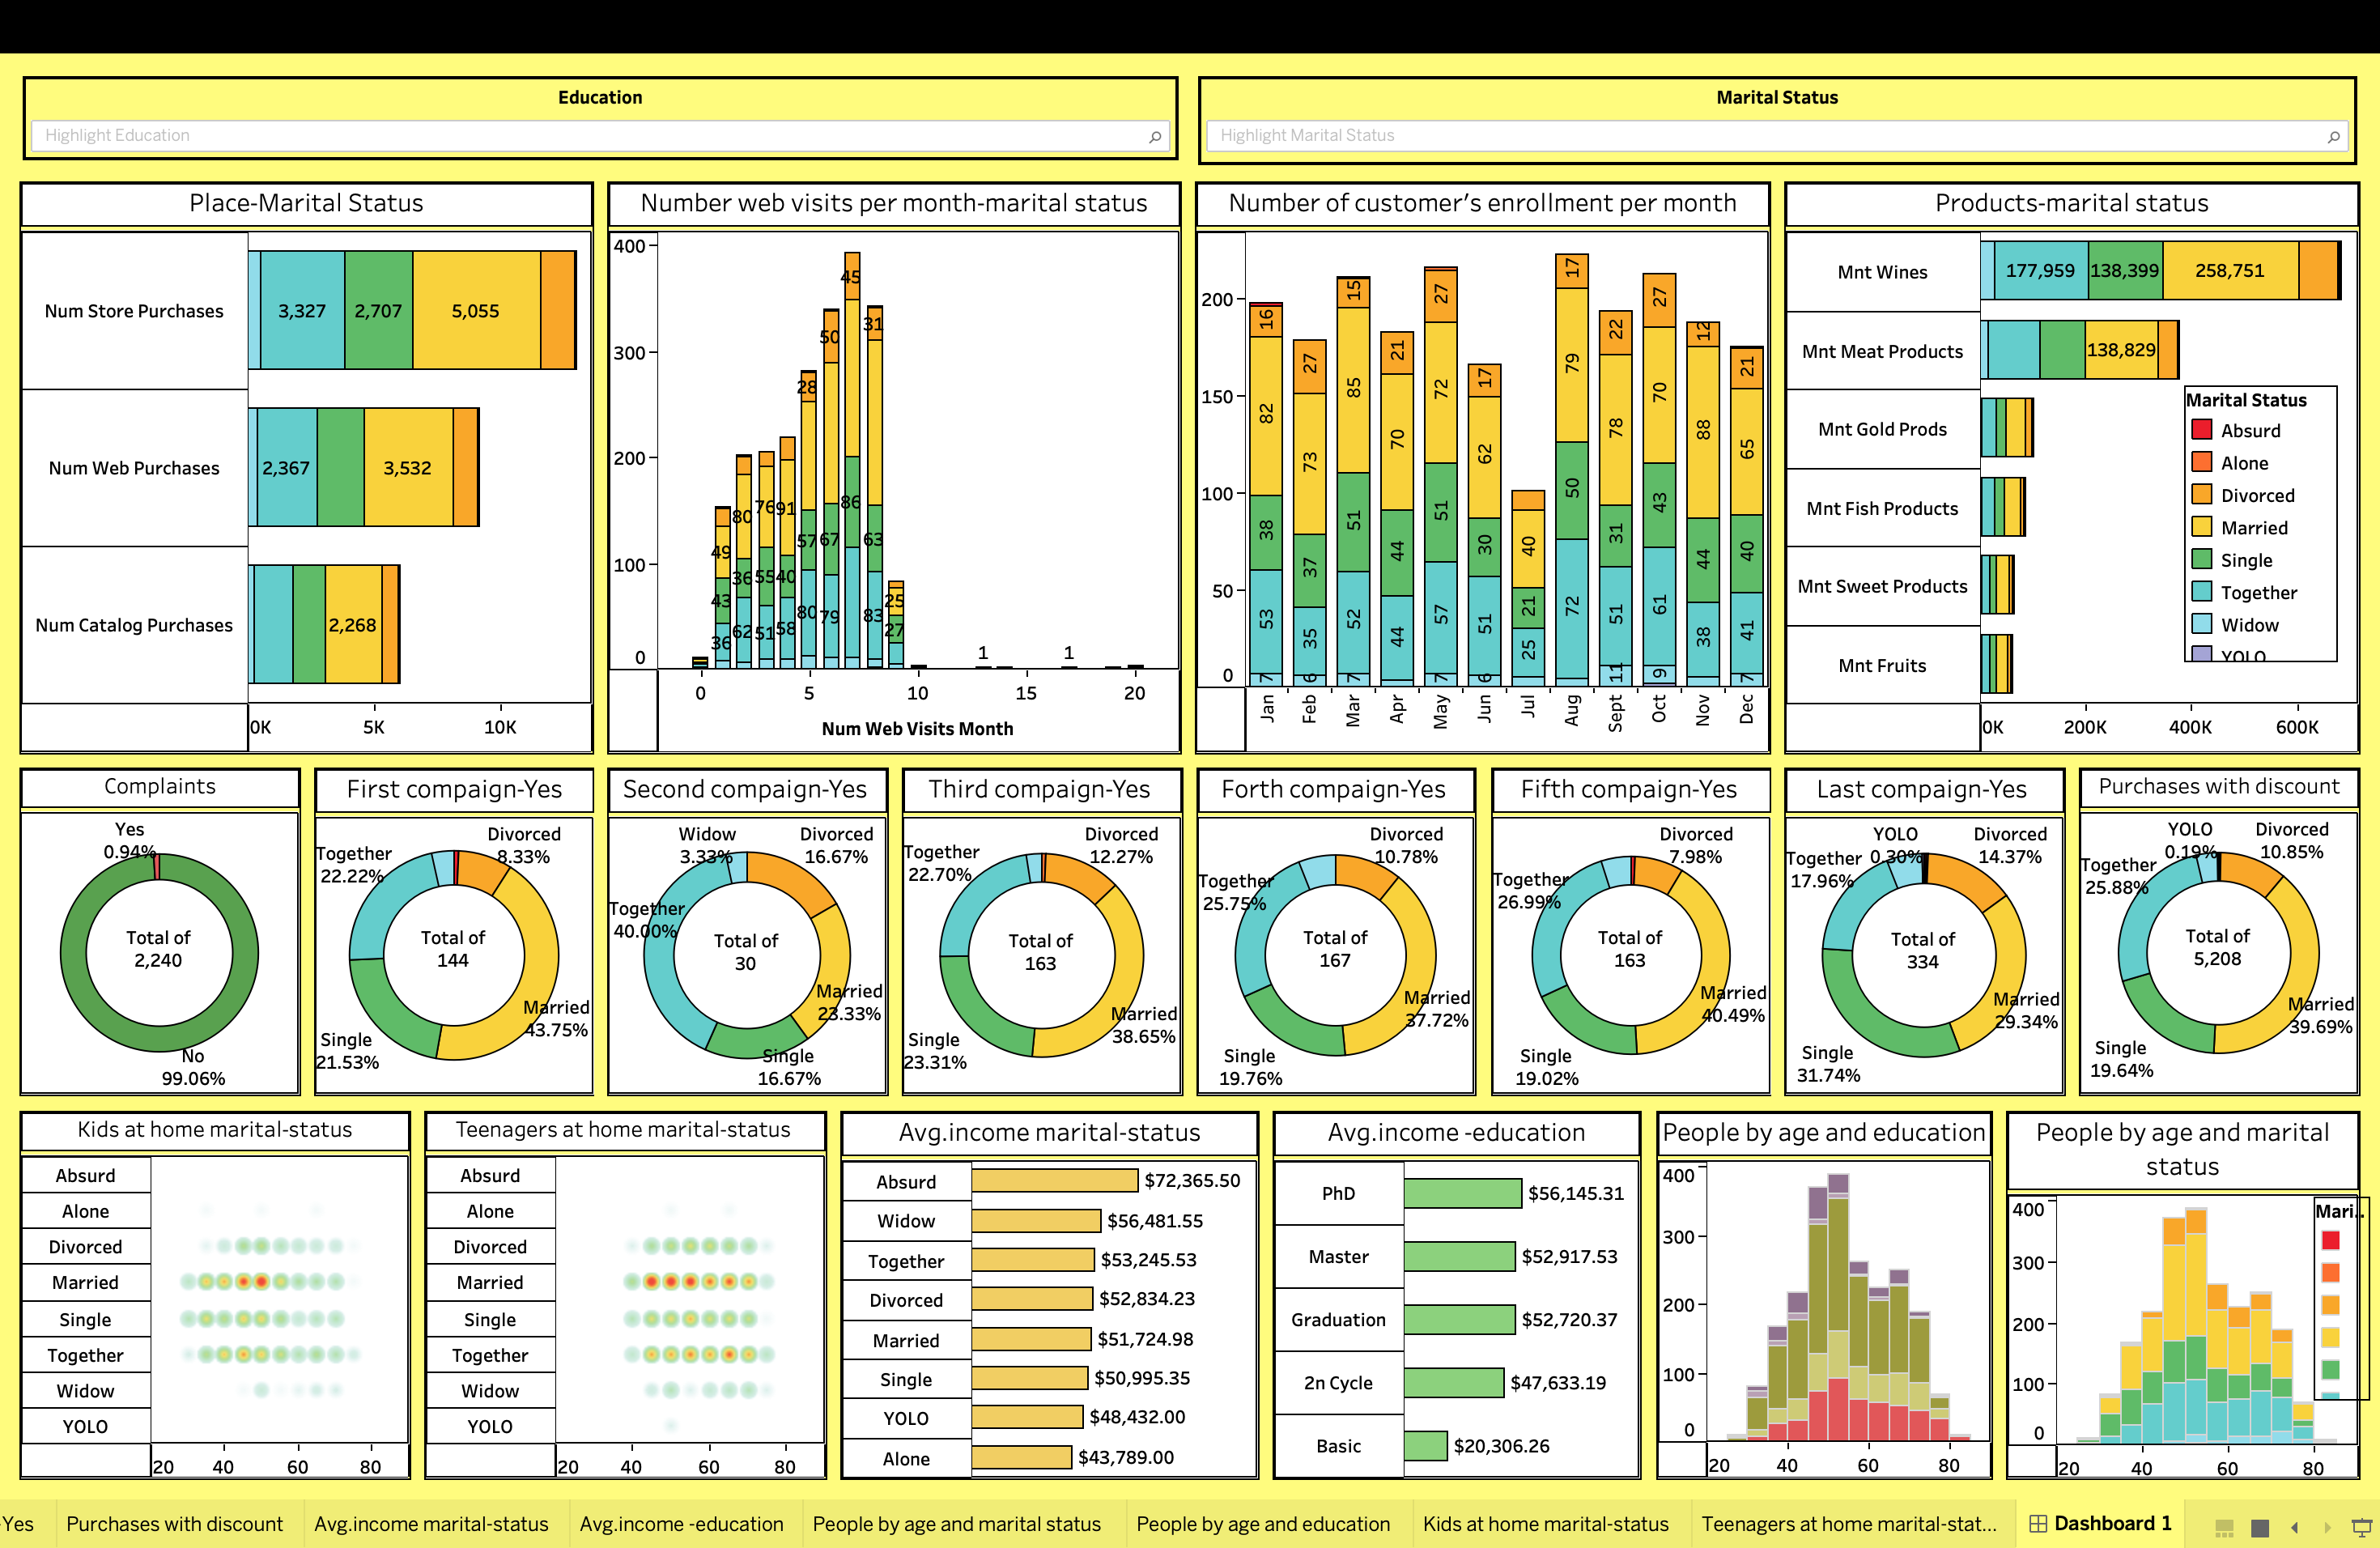

What the dashboard file says about the page in this screenshot:
{"tool":"tableau","page":{"name":"Dashboard 1","canvas":[1000,1000],"units":"permille","ordinal":0},"visuals":[{"type":"highlighter","title":"People by age and education","param":"[federated.0j65syx1y00lok1d6j68u1arrtdm].[none:Education:nk]","box":[5.5,10,494,74.6]},{"type":"highlighter","title":"Place-Marital Status","param":"[federated.0j65syx1y00lok1d6j68u1arrtdm].[none:Marital_Status:nk]","box":[499.6,10,494.9,74.6]},{"type":"worksheet","title":"Place-Marital Status","mark":"Automatic","box":[5.5,84.5,247.2,405.1]},{"type":"worksheet","title":"Number web visits per month-marital status","mark":"Bar","rows":["ID"],"cols":["NumWebVisitsMonth"],"box":[252.7,84.5,246.9,405.1]},{"type":"worksheet","title":"Number of customer's enrollment per month","mark":"Bar","rows":["ID"],"cols":["Dt_Customer"],"box":[499.6,84.5,247.6,405.1]},{"type":"worksheet","title":"Products-marital status","mark":"Bar","box":[747.1,84.5,247.3,405.1]},{"type":"legend","title":"Products-marital status","param":"[federated.0j65syx1y00lok1d6j68u1arrtdm].[none:Marital_Status:nk]","box":[917.6,230.1,64.4,191.5]},{"type":"worksheet","title":"Complaints","mark":"Pie","rows":["Calculation_116812131049074691","Calculation_116812131049091077"],"box":[5.5,489.6,123.5,236.2]},{"type":"worksheet","title":"First compaign-Yes","mark":"Pie","rows":["Calculation_116812131049074691","Calculation_116812131049091077"],"box":[129.1,489.6,123.6,236.2]},{"type":"worksheet","title":"Second compaign-Yes ","mark":"Pie","rows":["Calculation_116812131049074691","Calculation_116812131049091077"],"box":[252.7,489.6,123.6,236.2]},{"type":"worksheet","title":"Third compaign-Yes ","mark":"Pie","rows":["Calculation_116812131049074691","Calculation_116812131049091077"],"box":[376.3,489.6,124,236.2]},{"type":"worksheet","title":"Forth compaign-Yes ","mark":"Pie","rows":["Calculation_116812131049074691","Calculation_116812131049091077"],"box":[500.3,489.6,123.2,236.2]},{"type":"worksheet","title":"Fifth compaign-Yes ","mark":"Pie","rows":["Calculation_116812131049074691","Calculation_116812131049091077"],"box":[623.5,489.6,123.6,236.2]},{"type":"worksheet","title":"Last compaign-Yes ","mark":"Pie","rows":["Calculation_116812131049074691","Calculation_116812131049091077"],"box":[747.1,489.6,123.6,236.2]},{"type":"worksheet","title":"Purchases with discount","mark":"Pie","rows":["Calculation_116812131049074691","Calculation_116812131049091077"],"box":[870.8,489.6,123.7,236.2]},{"type":"worksheet","title":"Kids at home marital-status","mark":"Heatmap","rows":["Marital_Status"],"cols":["Age (bin)"],"box":[5.5,725.8,170.2,264.2]},{"type":"worksheet","title":"Teenagers at home marital-status ","mark":"Heatmap","rows":["Marital_Status"],"cols":["Age (bin)"],"box":[175.7,725.8,174.6,264.2]},{"type":"worksheet","title":"Avg.income marital-status","mark":"Bar","rows":["Marital_Status"],"cols":["Income"],"box":[350.3,725.8,181.8,264.2]},{"type":"worksheet","title":"Avg.income -education","mark":"Bar","rows":["Education"],"cols":["Income"],"box":[532.1,725.8,160.7,264.2]},{"type":"worksheet","title":"People by age and education","mark":"Automatic","rows":["Calculation_116812131083386886"],"cols":["Age (bin)"],"box":[692.9,725.8,147.2,264.2]},{"type":"worksheet","title":"People by age and marital status","mark":"Automatic","rows":["Calculation_116812131083386886"],"cols":["Age (bin)"],"box":[840,725.8,154.4,264.2]},{"type":"legend","title":"People by age and marital status","param":"[federated.0j65syx1y00lok1d6j68u1arrtdm].[none:Marital_Status:nk]","box":[972.3,791,23.6,140.6]}]}

Visuals, with their boxes on the dashboard's canvas, which has no fixed pixel size, in thousandths of its width and height (x1, y1, x2, y2). These are canvas units, not pixel positions in the 2380x1548 screenshot, which may show the page scaled, cropped or inside an application window:
"People by age and education" highlighter: l=6, t=10, r=500, b=85
"Place-Marital Status" highlighter: l=500, t=10, r=994, b=85
"Place-Marital Status" worksheet: l=6, t=84, r=253, b=490
"Number web visits per month-marital status" worksheet (Bar marks): l=253, t=84, r=500, b=490
"Number of customer's enrollment per month" worksheet (Bar marks): l=500, t=84, r=747, b=490
"Products-marital status" worksheet (Bar marks): l=747, t=84, r=994, b=490
"Products-marital status" legend: l=918, t=230, r=982, b=422
"Complaints" worksheet (Pie marks): l=6, t=490, r=129, b=726
"First compaign-Yes" worksheet (Pie marks): l=129, t=490, r=253, b=726
"Second compaign-Yes " worksheet (Pie marks): l=253, t=490, r=376, b=726
"Third compaign-Yes " worksheet (Pie marks): l=376, t=490, r=500, b=726
"Forth compaign-Yes " worksheet (Pie marks): l=500, t=490, r=624, b=726
"Fifth compaign-Yes " worksheet (Pie marks): l=624, t=490, r=747, b=726
"Last compaign-Yes " worksheet (Pie marks): l=747, t=490, r=871, b=726
"Purchases with discount" worksheet (Pie marks): l=871, t=490, r=994, b=726
"Kids at home marital-status" worksheet (Heatmap marks): l=6, t=726, r=176, b=990
"Teenagers at home marital-status " worksheet (Heatmap marks): l=176, t=726, r=350, b=990
"Avg.income marital-status" worksheet (Bar marks): l=350, t=726, r=532, b=990
"Avg.income -education" worksheet (Bar marks): l=532, t=726, r=693, b=990
"People by age and education" worksheet: l=693, t=726, r=840, b=990
"People by age and marital status" worksheet: l=840, t=726, r=994, b=990
"People by age and marital status" legend: l=972, t=791, r=996, b=932
